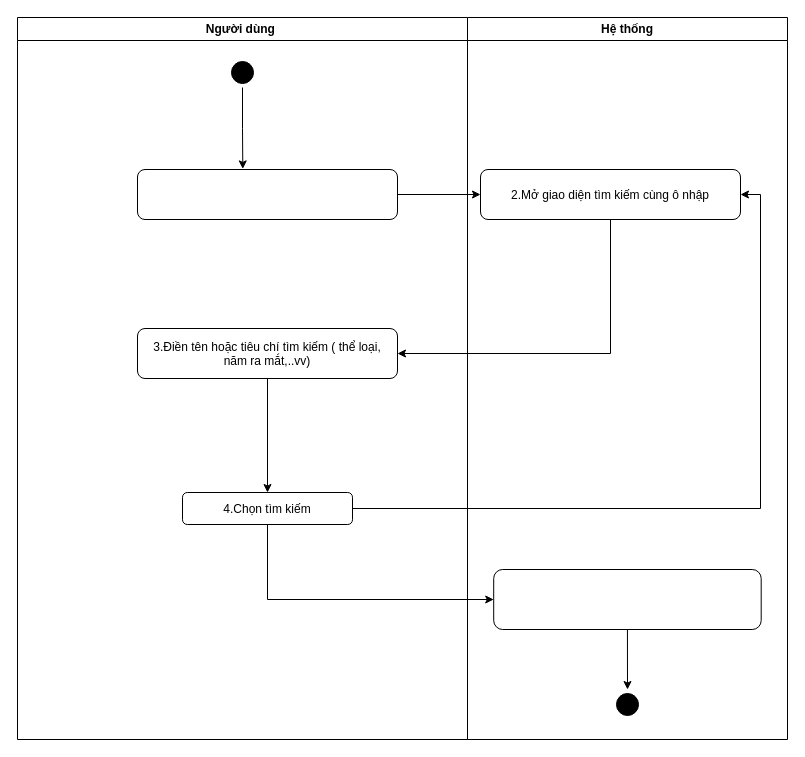
The diagram is 805 pixels wide and 757 high, and some of its shapes have lost their labels. Here are the shapes that lost their labels. From the top down, the centre of each, then its label:
pixel 267 194: 1.Chọn chức năng tìm kiếm
pixel 627 599: 5.Hệ thống trả về kết quả tìm kiếm
